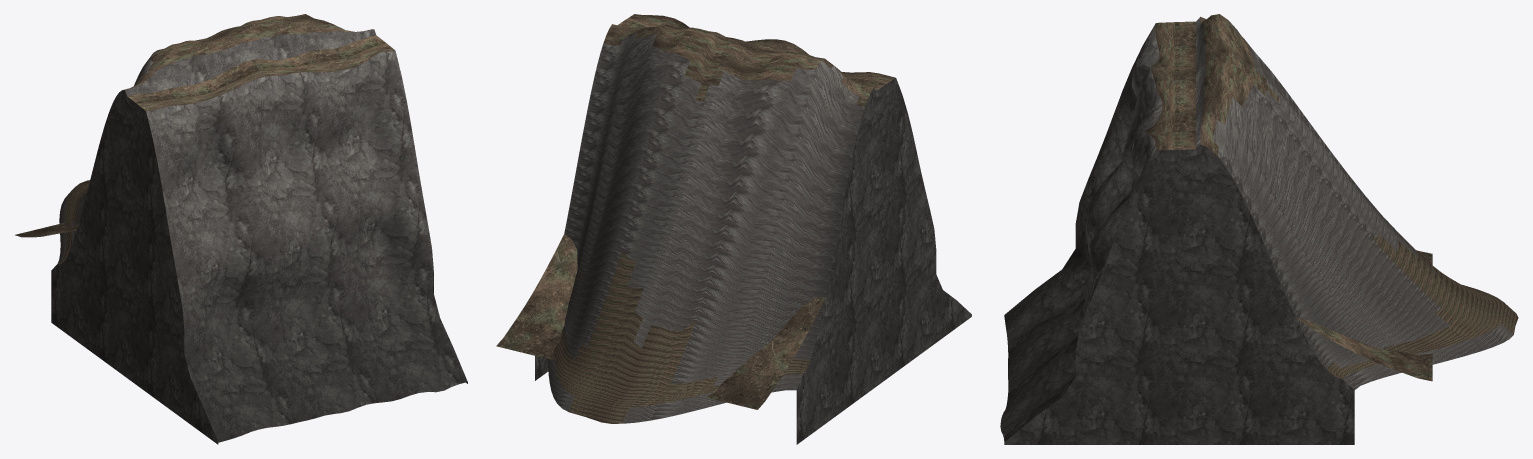
The model's file is seacliff_straight6c_h5_v5_autumn.glb.
The picture shows the model from 3 angles, left to right: view 1: azimuth 30°, elevation 25°; view 2: azimuth 150°, elevation 25°; view 3: azimuth 270°, elevation 25°; orthographic projection. The views are drawn at different scales.
Parts seen in each view (by area): view 1: seacliff_straight6c_h5; view 2: seacliff_straight6c_h5; view 3: seacliff_straight6c_h5.
Boxes of the visible parts, x1,y1,x2,y2 form: seacliff_straight6c_h5: [15, 14, 467, 444]; seacliff_straight6c_h5: [496, 14, 971, 444]; seacliff_straight6c_h5: [1000, 14, 1518, 444].
Bounding box in the file's own units: 6 × 7.15 × 10.29.
2 materials, 2 textured.
